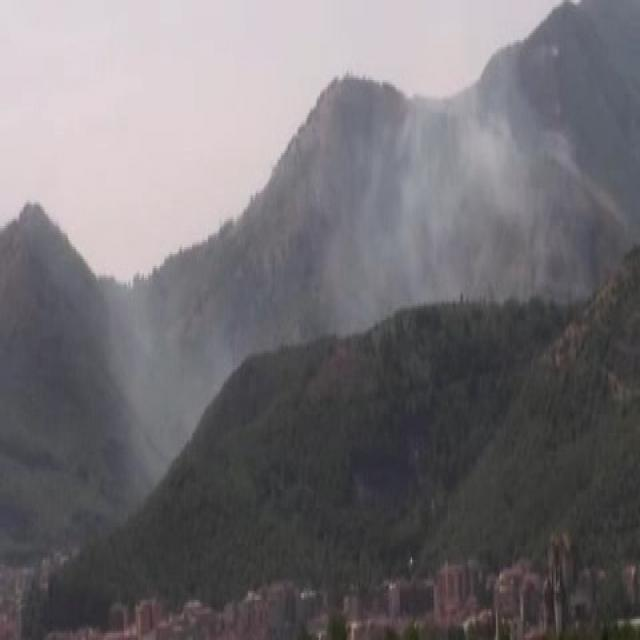smoke: (332, 92, 525, 309)
